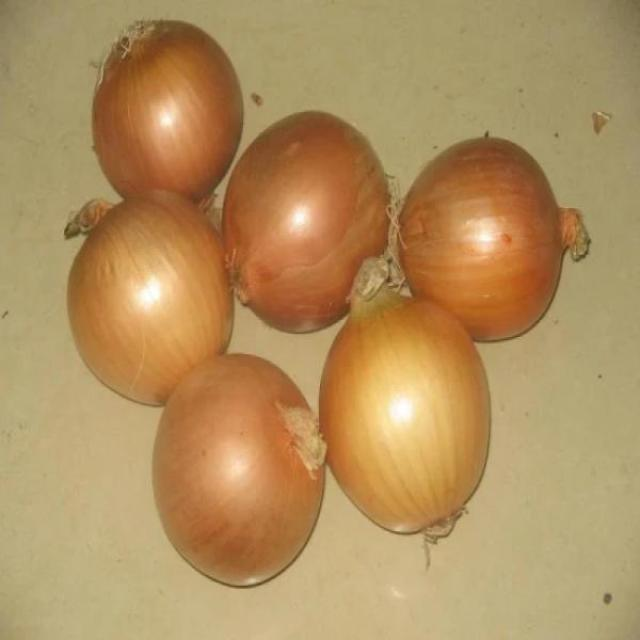Onion: (317, 299, 493, 542), (150, 354, 327, 591), (397, 137, 591, 346), (220, 110, 394, 337), (221, 111, 394, 337), (65, 190, 233, 407), (92, 20, 246, 207)
